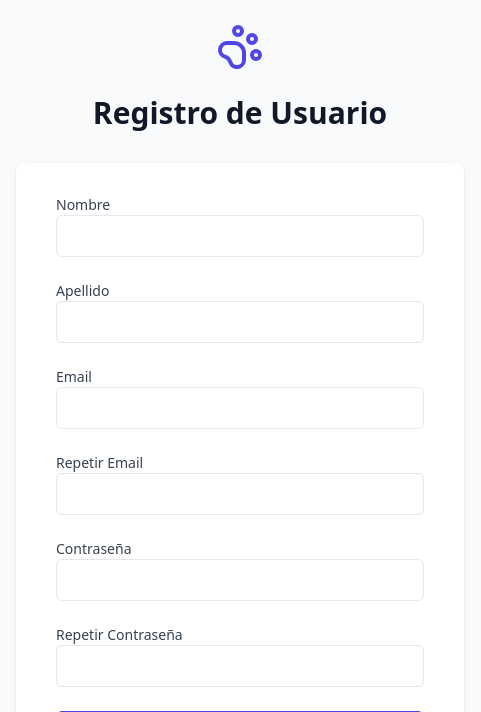
Test: RegisterForm › Funcionalidad de registro › debe mostrar error cuando el registro falla
Type "Juan" into the field labelled "Nombre" at (240, 236), box [56,215,424,257]
Type "Pérez" into the field labelled "Apellido" at (240, 322), box [56,301,424,343]
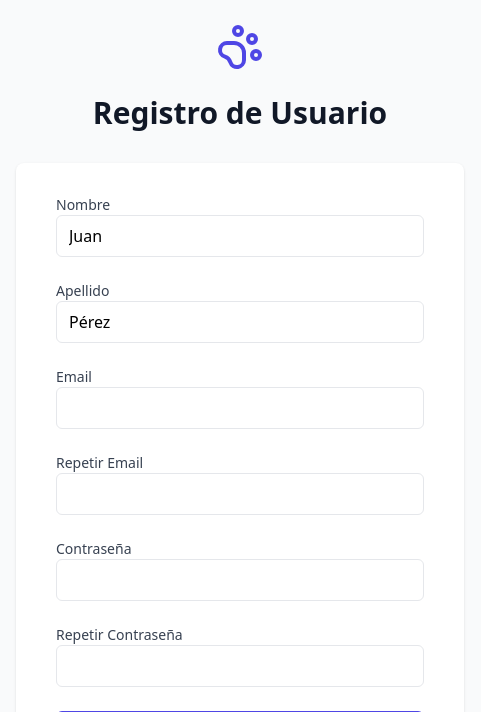
Type "juan@example.com" into the field labelled "Email" at (240, 408), box [56,387,424,429]
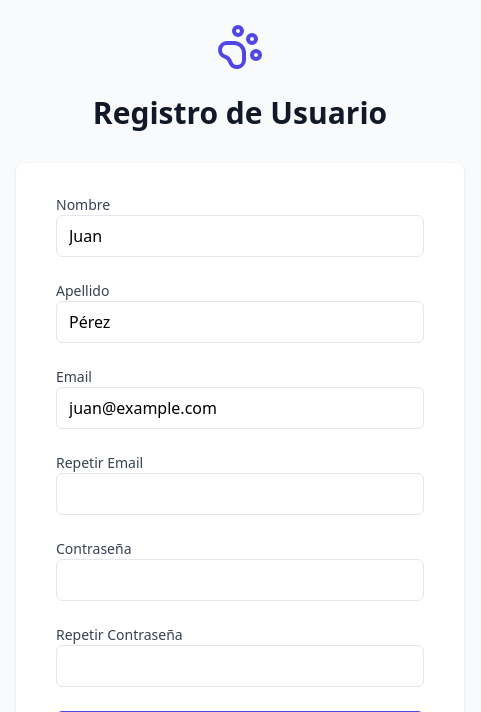
Type "juan@example.com" into the field labelled "Repetir Email" at (240, 494), box [56,473,424,515]
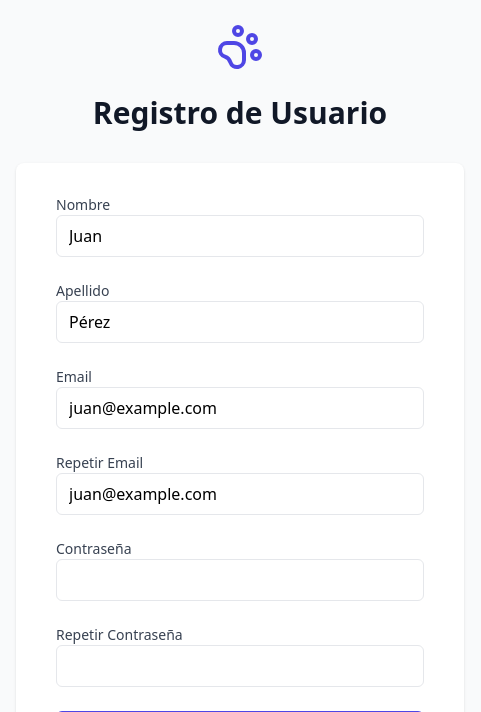
Type "123456" into the password field labelled "Contraseña" at (240, 580), box [56,559,424,601]
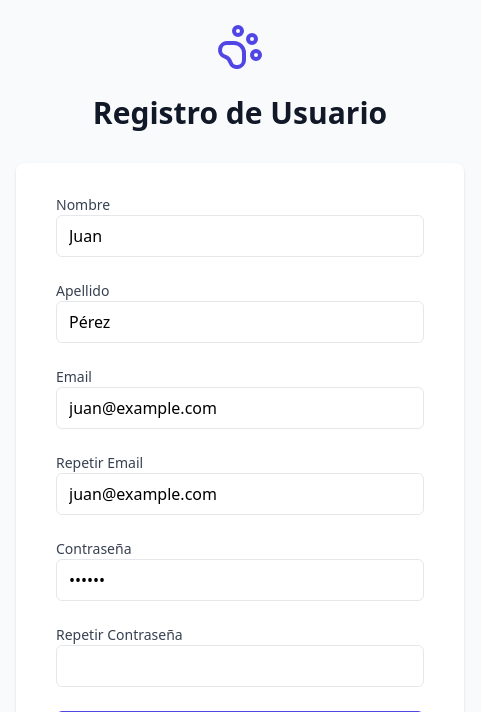
Type "123456" into the password field labelled "Repetir Contraseña" at (240, 666), box [56,645,424,687]
(page scrolled)
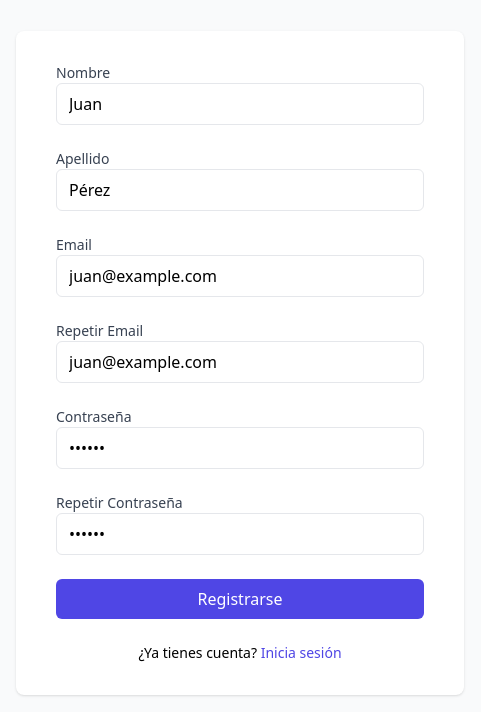
Click the button "Registrarse" at (240, 599), box [56,579,424,619]
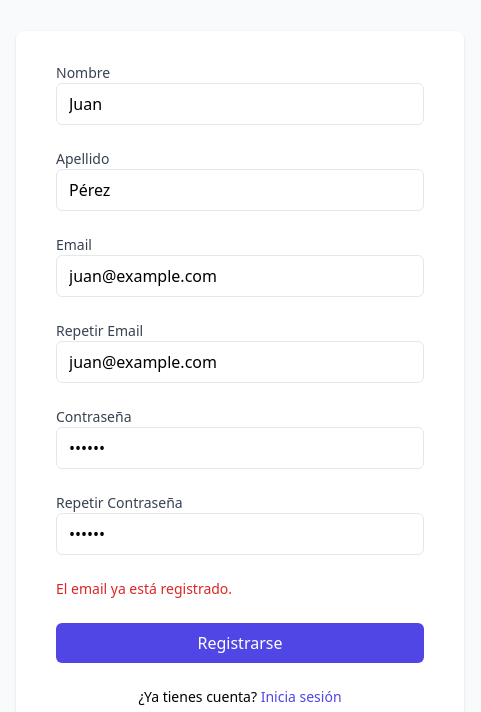
expect the text "El email ya está registrado." is shown: met, box [56,579,232,598]
